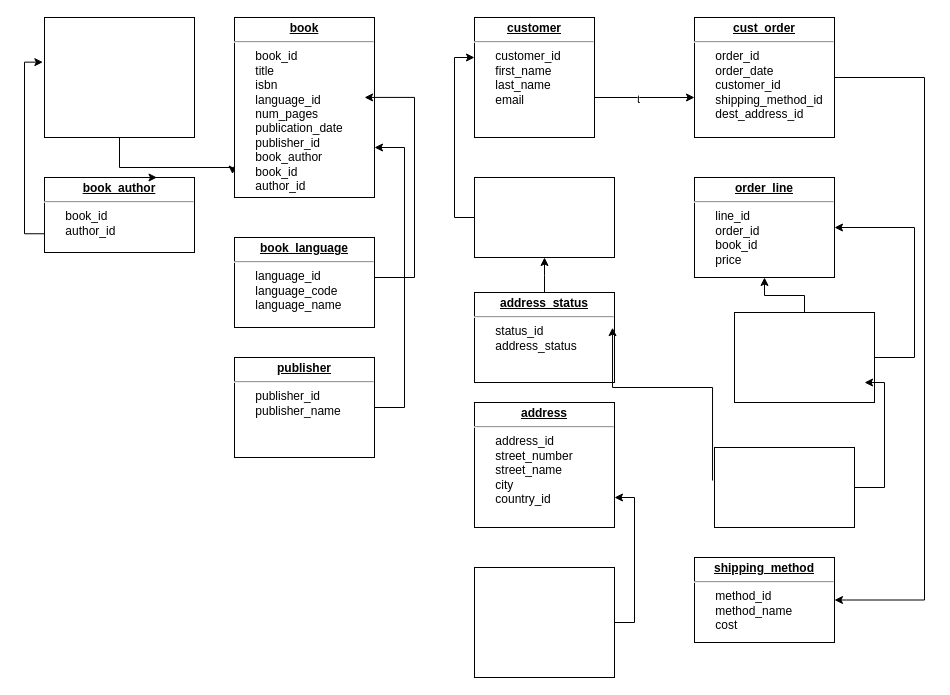
The diagram is 950 pixels wide and 695 high, and some of its shapes have lost their labels. Here are the shapes that lost their labels. From the top down, the centre of each, then its label:
At (119,77): "Author author_id author_name".
At (544,217): "customer_address customer_id address_id status_id".
At (804,357): "order_history history_id order_id status_id status_date".
At (784,487): "order_status status_id status_value".
At (544,622): "country country_id country_name".
